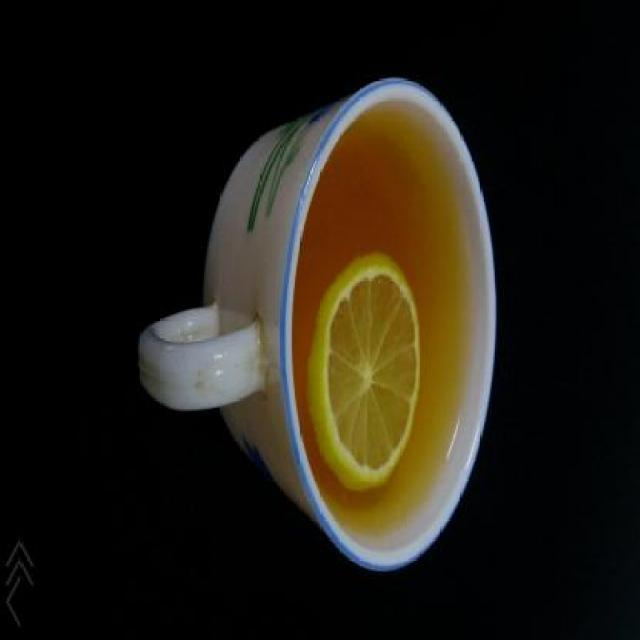Lemon: (310, 258, 426, 486)
